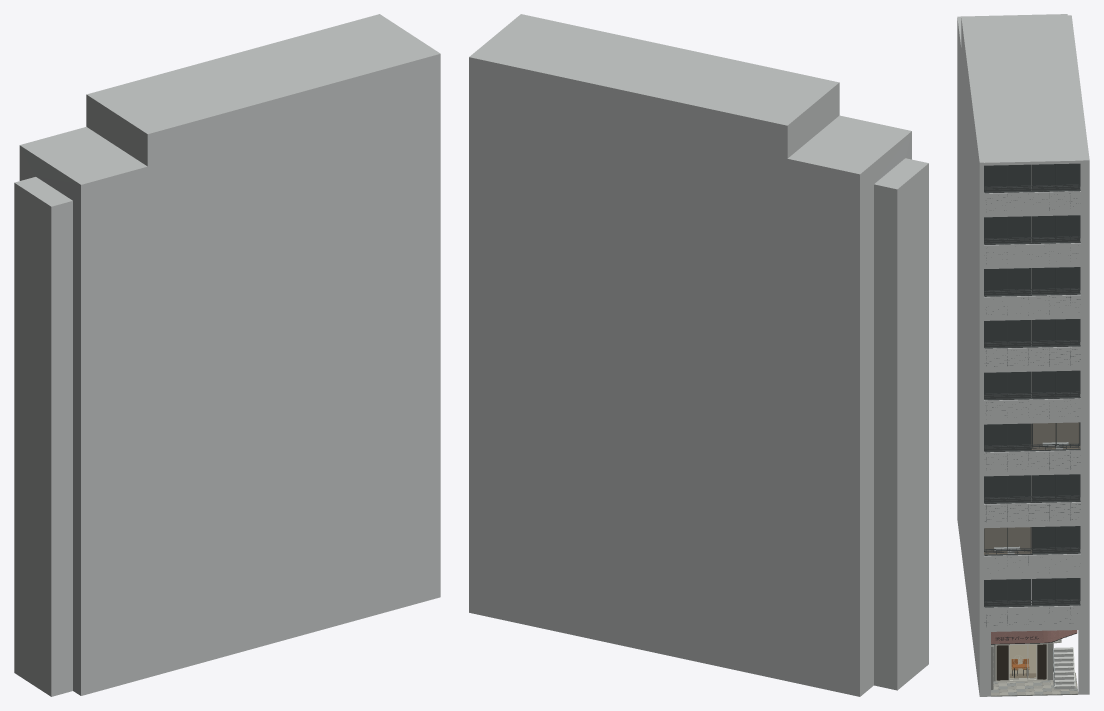
The model's file is d11-miyashita-building807.glb.
3 renders of one model, left to right at view 1: azimuth 30°, elevation 25°; view 2: azimuth 150°, elevation 25°; view 3: azimuth 270°, elevation 25°, orthographic. The views are drawn at different scales.
Visible parts, largest first — view 1: 01_OBSERVED_STONE_CANOPY__granite_grain_dark; view 2: 01_OBSERVED_STONE_CANOPY__granite_grain_dark; view 3: 01_OBSERVED_STONE_CANOPY__granite_grain_dark, RUNTIME_BATCH_darkglass.
Boxes of the visible parts, <box> form: 01_OBSERVED_STONE_CANOPY__granite_grain_dark: <box>14,14,440,696</box>; 01_OBSERVED_STONE_CANOPY__granite_grain_dark: <box>469,14,928,696</box>; 01_OBSERVED_STONE_CANOPY__granite_grain_dark: <box>957,14,1089,696</box>; RUNTIME_BATCH_darkglass: <box>984,164,1078,600</box>.
Bounding box in the file's own units: 25.74 × 33.64 × 7.56.
Materials: 4 (1 with a texture image).
